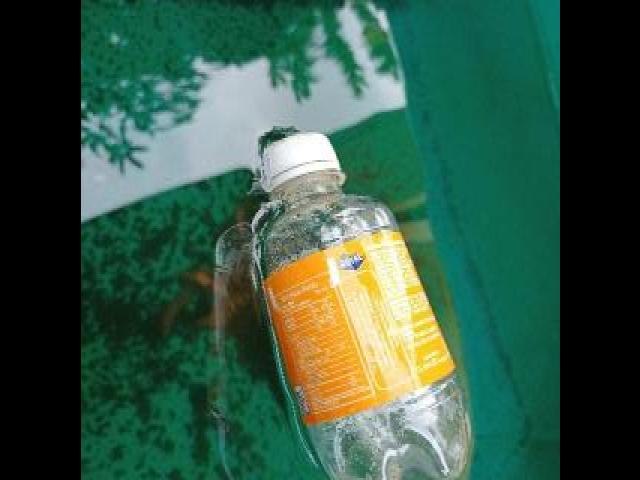Bottle: (245, 120, 479, 480)
